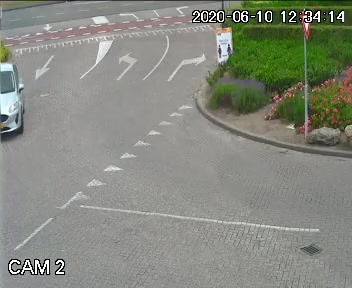car: (0, 58, 39, 139)
